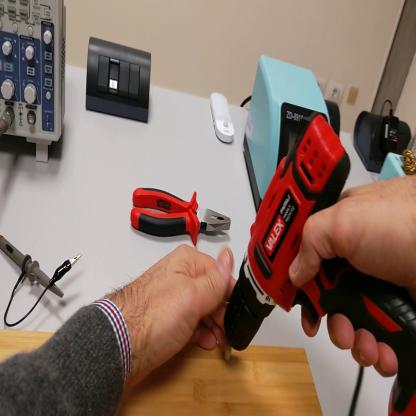electric screwdriver: (225, 114, 416, 415)
hand: (286, 172, 415, 382), (128, 242, 240, 376)
oscilloscope: (2, 3, 69, 164)
oscilloscope probe tip: (1, 236, 65, 298)
pliers: (131, 187, 231, 246)
socket: (353, 106, 414, 176), (329, 106, 341, 138)
welder base: (381, 150, 415, 178)
welder station: (242, 51, 331, 211)
working area: (1, 329, 323, 416)
